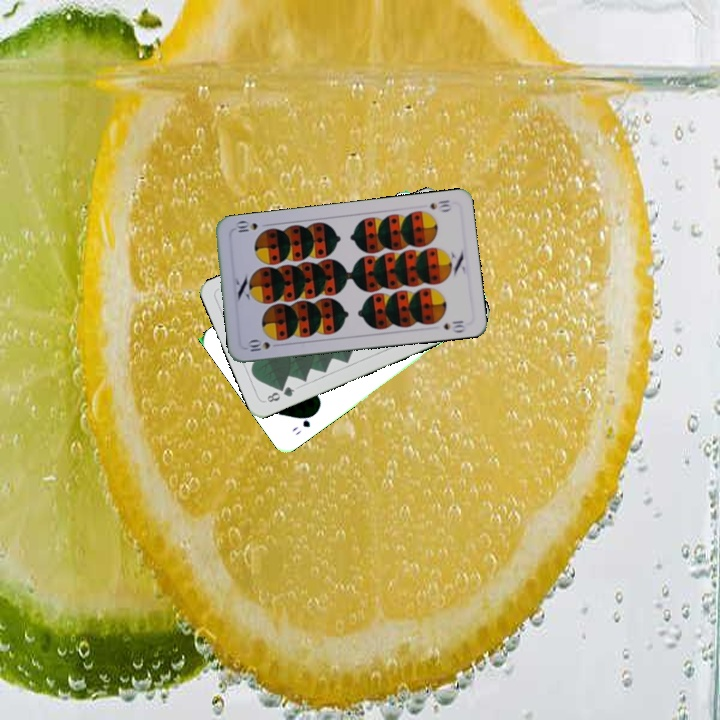G8: (263, 382, 297, 405)
GO: (288, 409, 319, 438)
S10: (243, 337, 283, 355), (426, 196, 454, 214)
